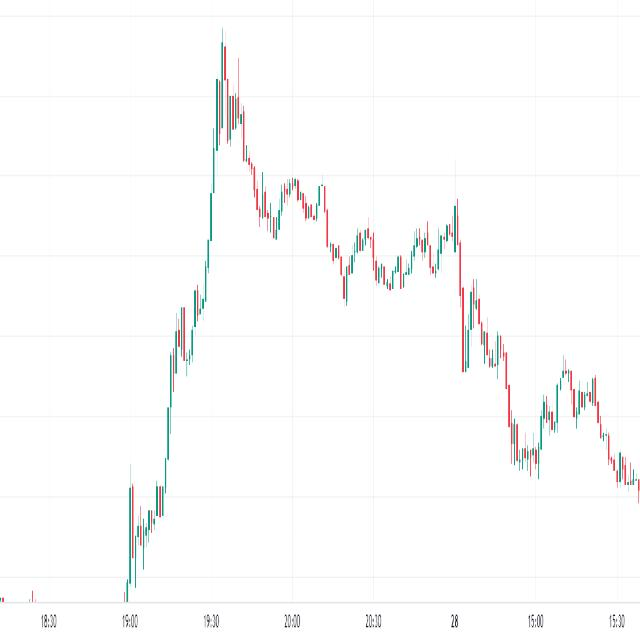Descending-Triangle: (200, 6, 360, 238), (456, 228, 521, 379)
Head-Shoulders: (160, 14, 349, 467), (534, 350, 608, 468)
